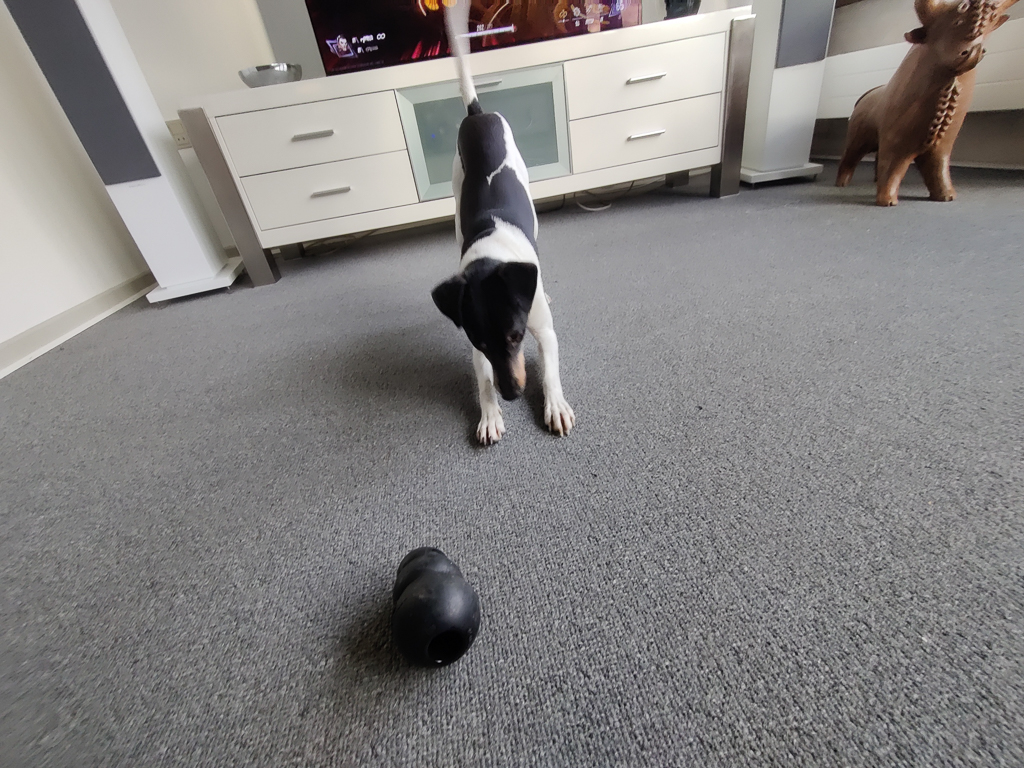Cattle: (819, 0, 1024, 214)
Dog: (423, 0, 604, 461)
